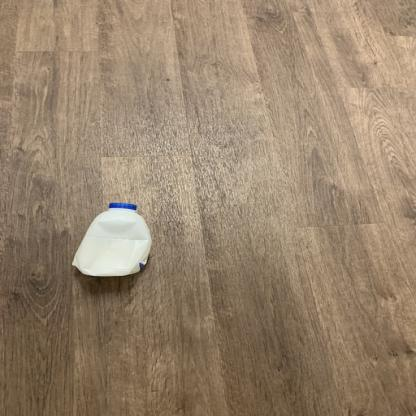trash: (72, 200, 150, 280)
